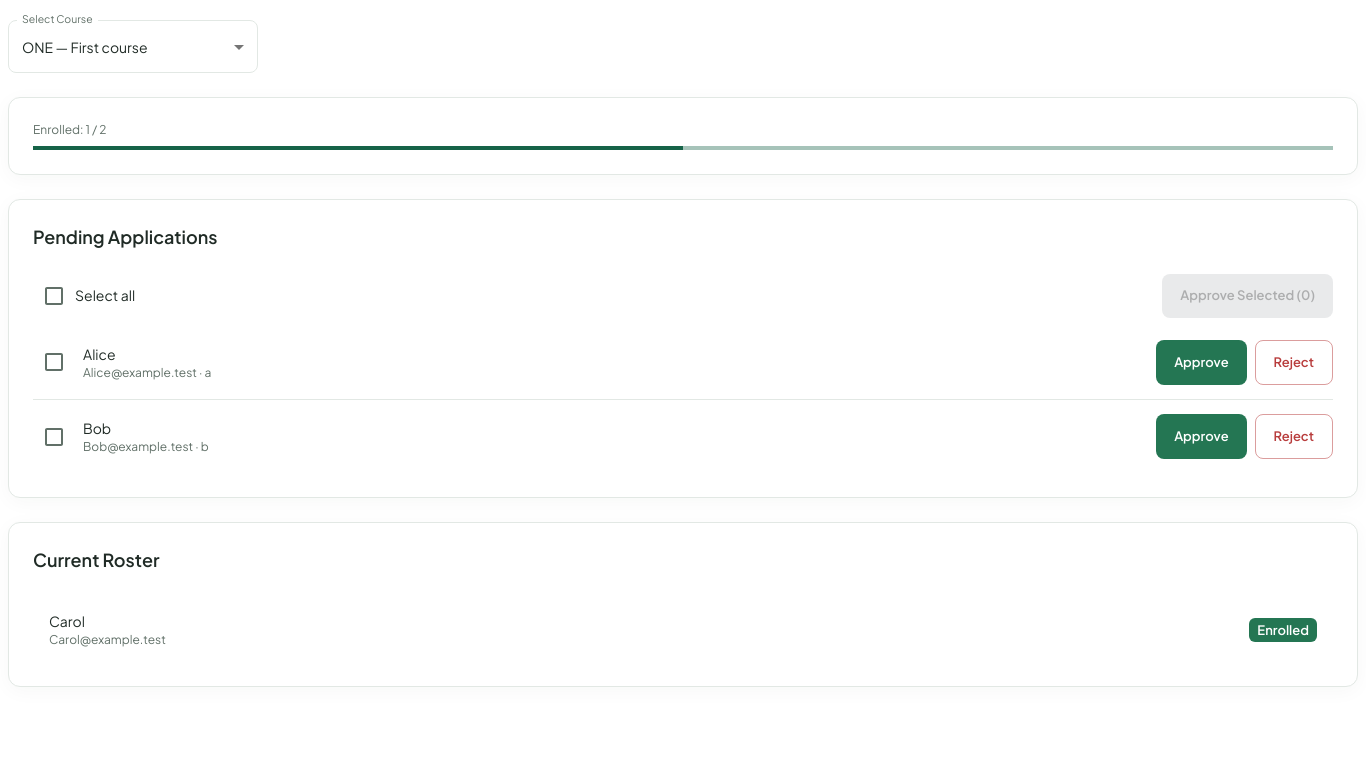
blocks selections above remaining course capacity and allows a smaller selection
Expected: the checkbox named "Select Alice" is shown, [42, 350, 66, 374]
Click the 1st checkbox labelled "Select all": (89, 296) [42, 284, 135, 308]
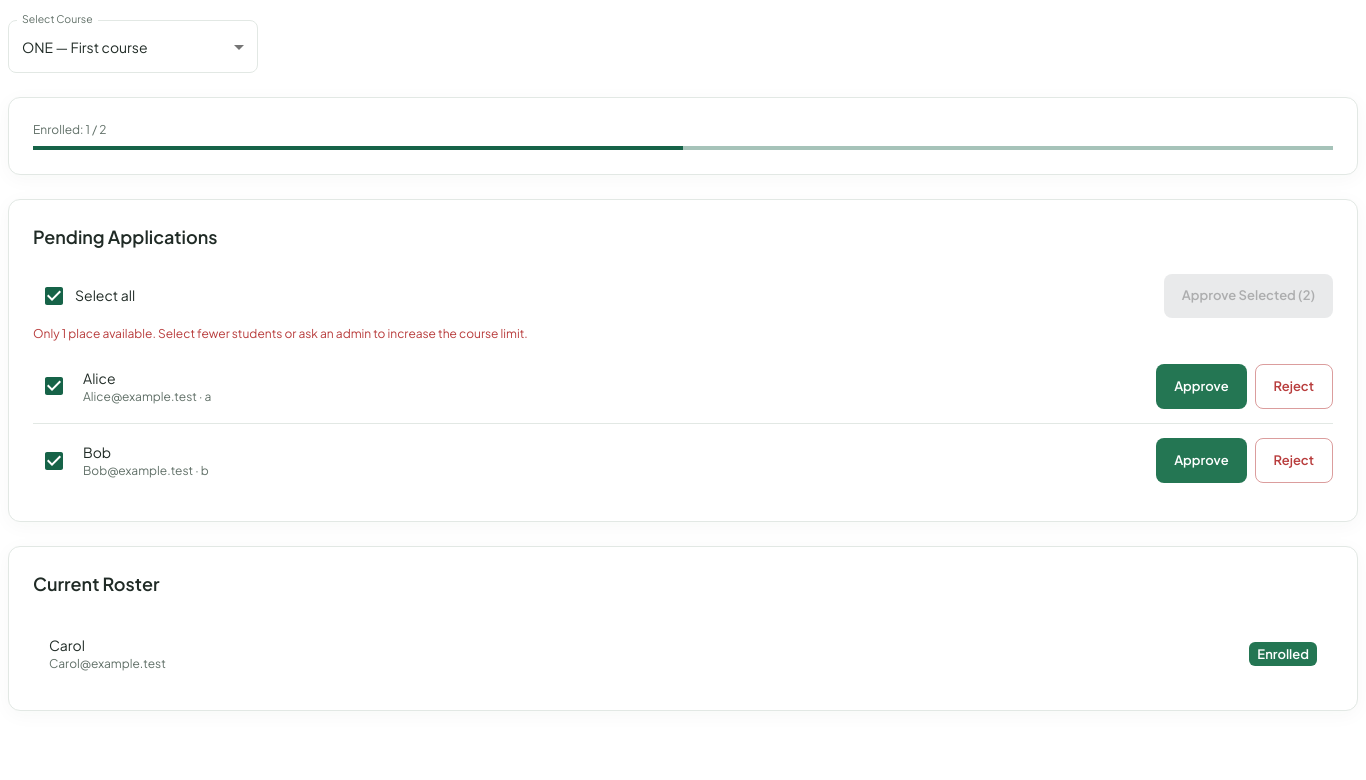
Expected: the button "Approve Selected (2)" is disabled, [1164, 274, 1333, 318]
Now the message shows "Only 1 place available.", box [33, 326, 528, 341]
Click the checkbox named "Select Bob": (54, 461) [42, 449, 66, 473]
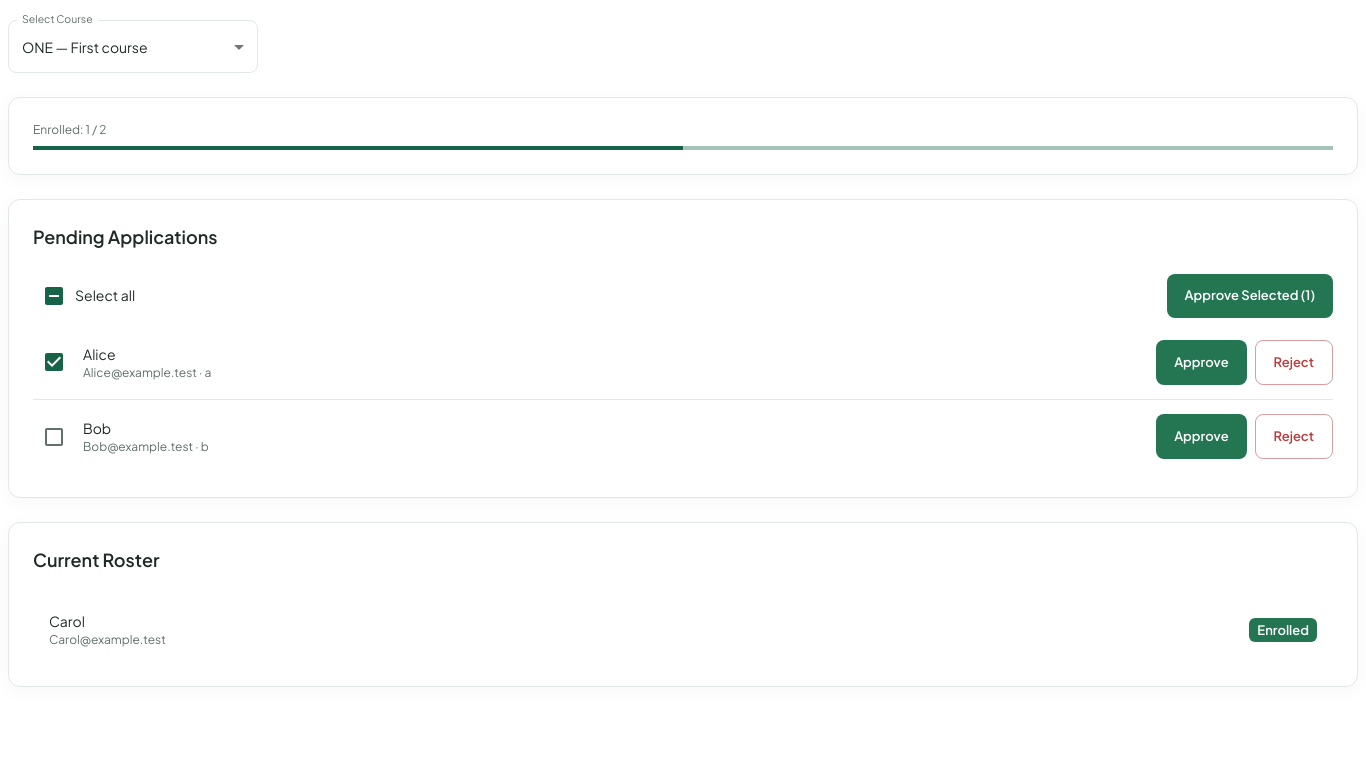
Click the button "Approve Selected (1)": (1250, 296) [1166, 274, 1333, 318]
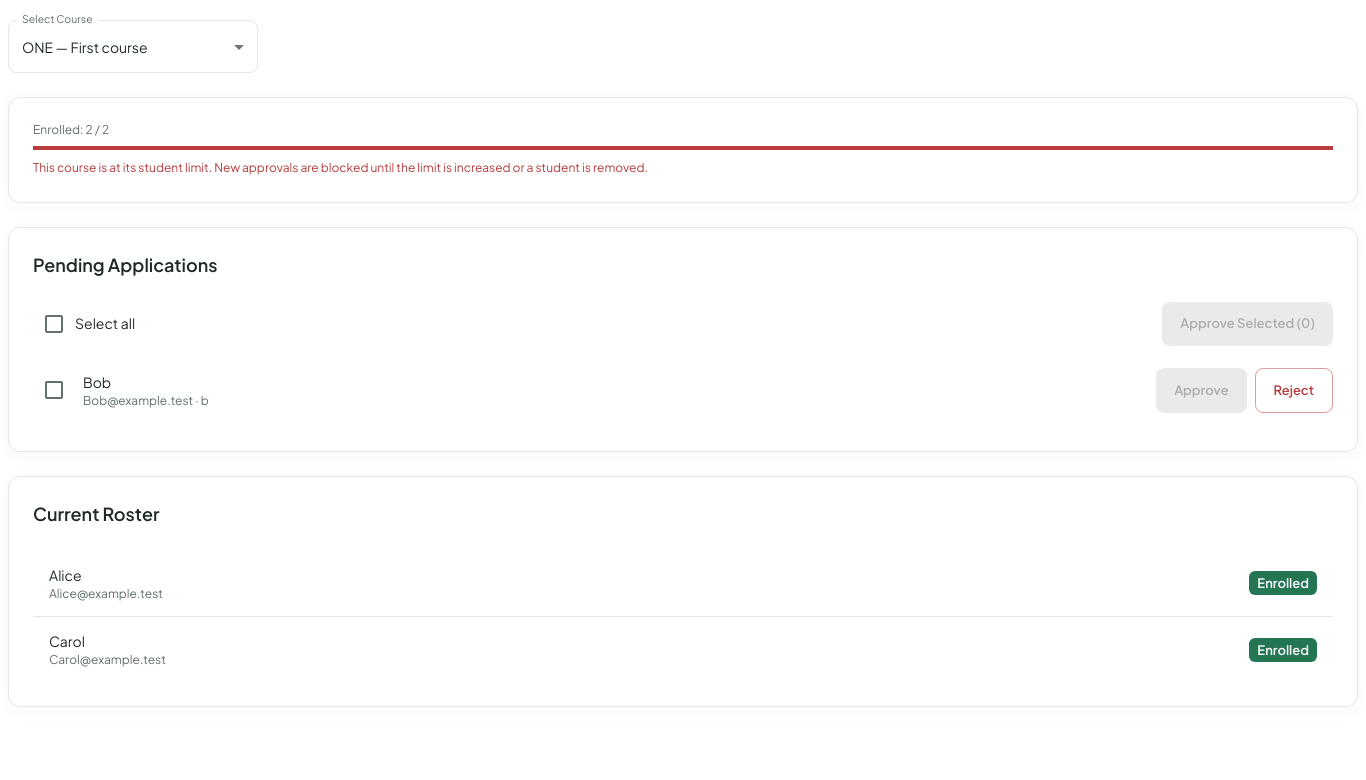
Now the text "Enrolled: 2 / 2" is shown, box [33, 122, 109, 137]
Now the button "Approve" is disabled, box [1156, 368, 1247, 413]
